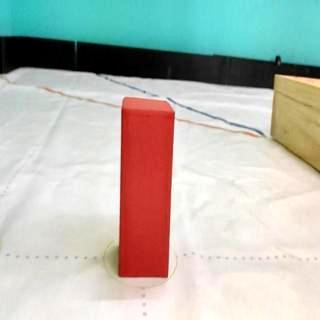redbox: (120, 97, 174, 279)
